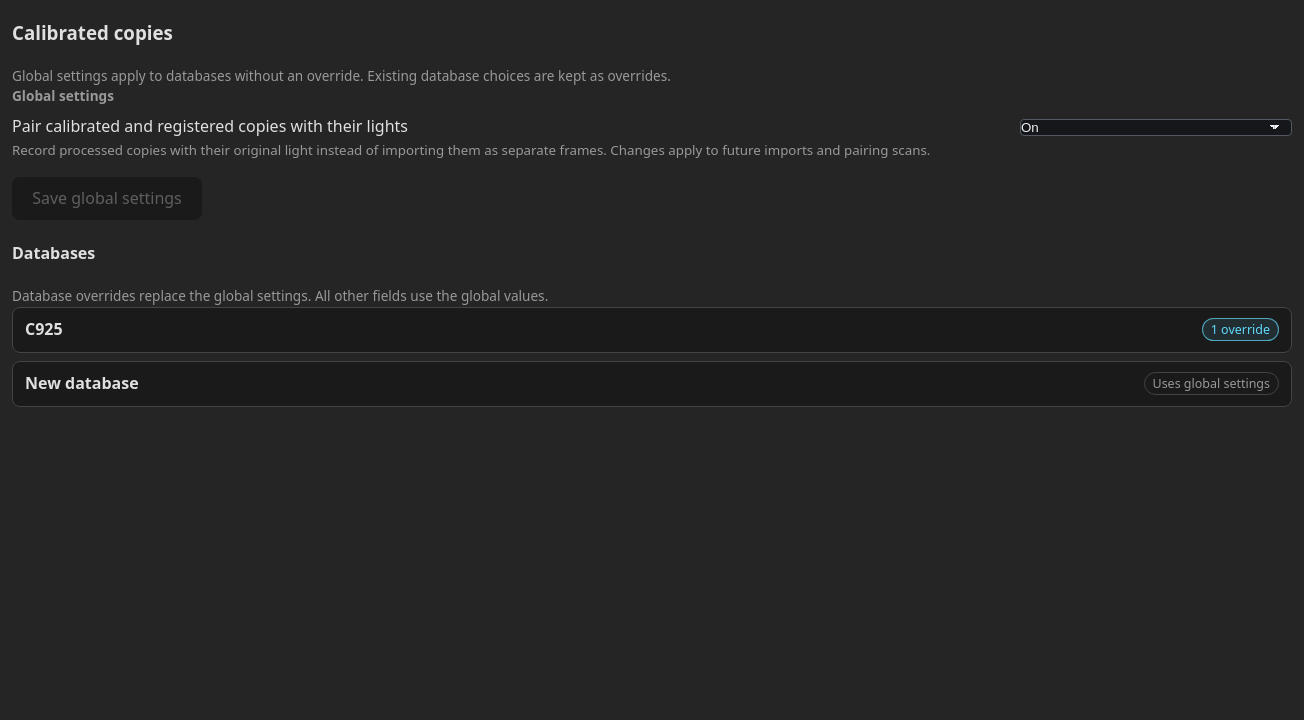
Scenario: Shared processing settings › restores inheritance for one database without changing other fields
This screenshot has width=1304, height=720.
Step 1. Click the button "C925 1 override" → (44, 329), box [13, 308, 1291, 352]
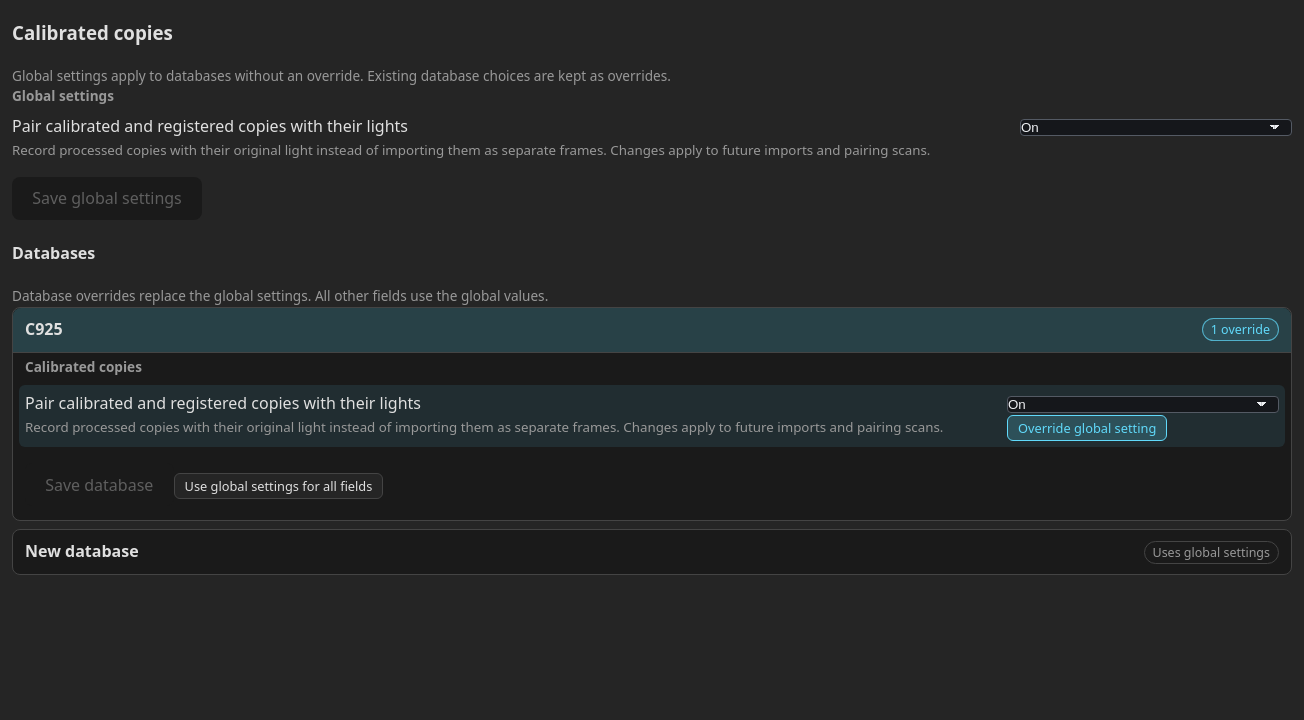
Step 2. Click the button "Override global setting" → (1087, 428), box [1007, 415, 1167, 441]
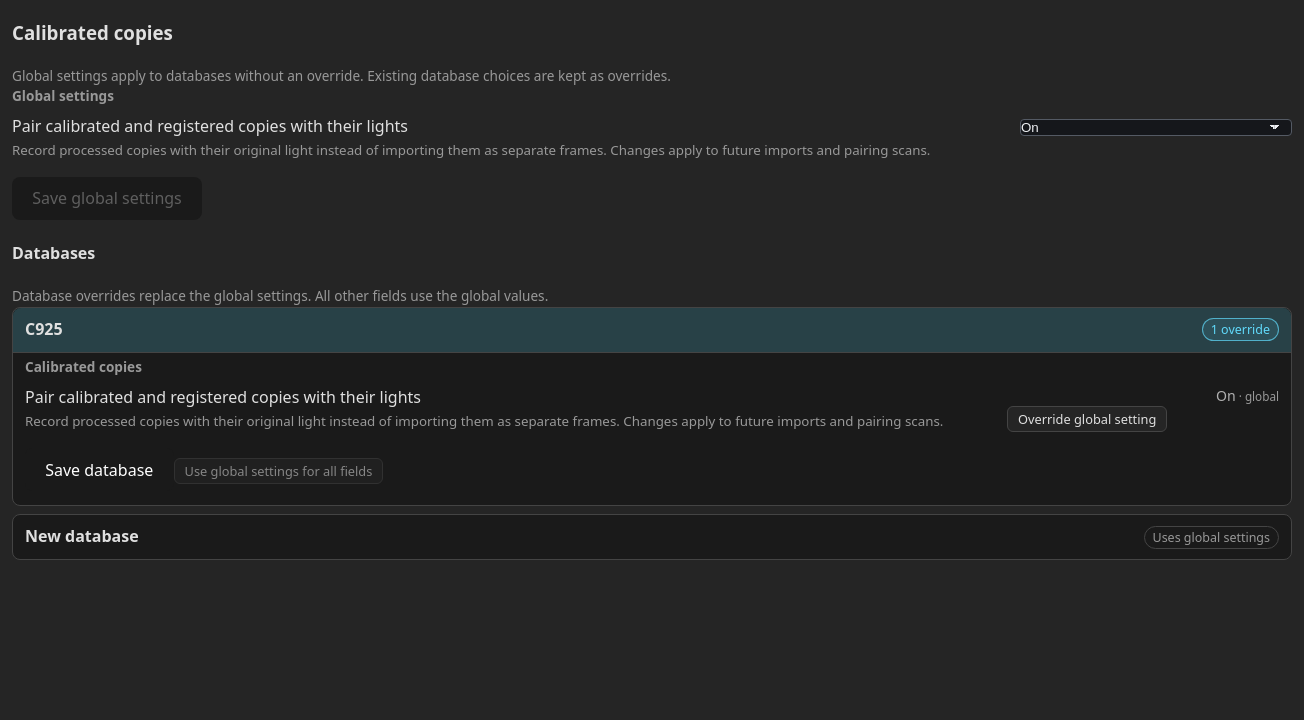
Result: the text "· global" is shown at [1236, 388, 1279, 404]
Step 3. Click the button "Save database" → (99, 470), box [25, 448, 174, 492]
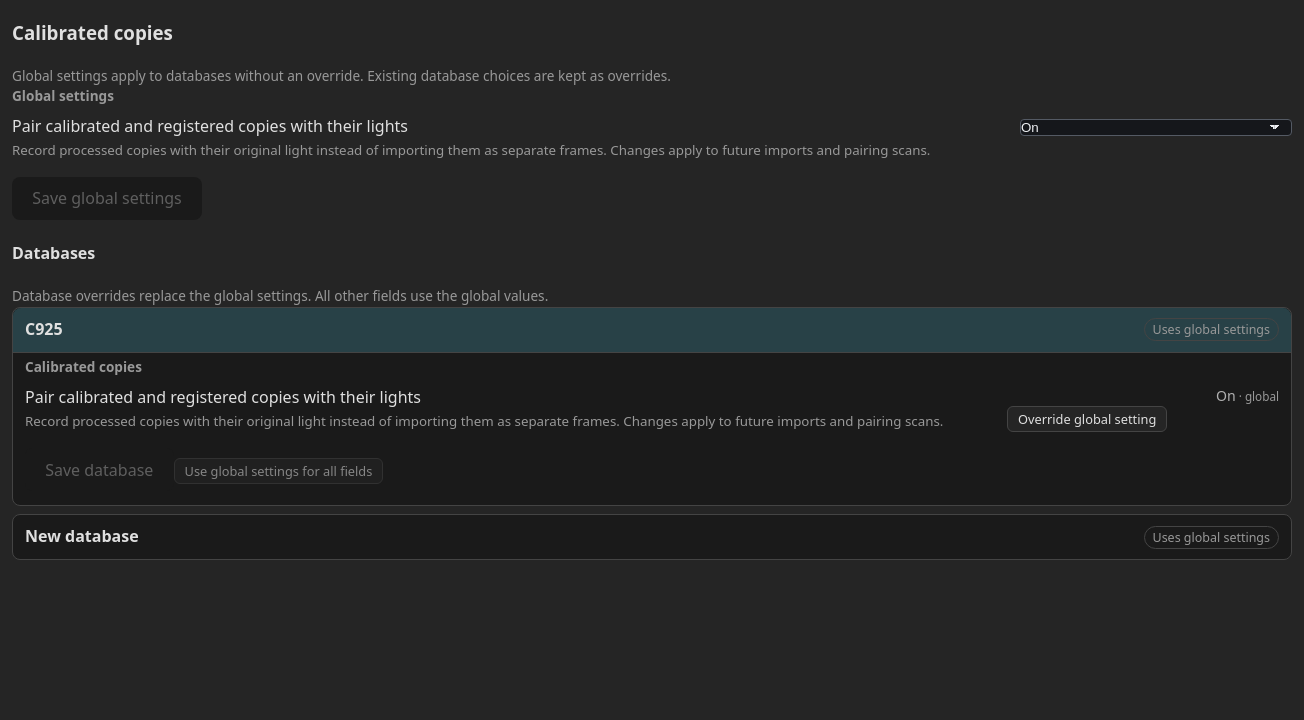
Result: the button "C925 Uses global settings" is shown at [13, 308, 1291, 352]
